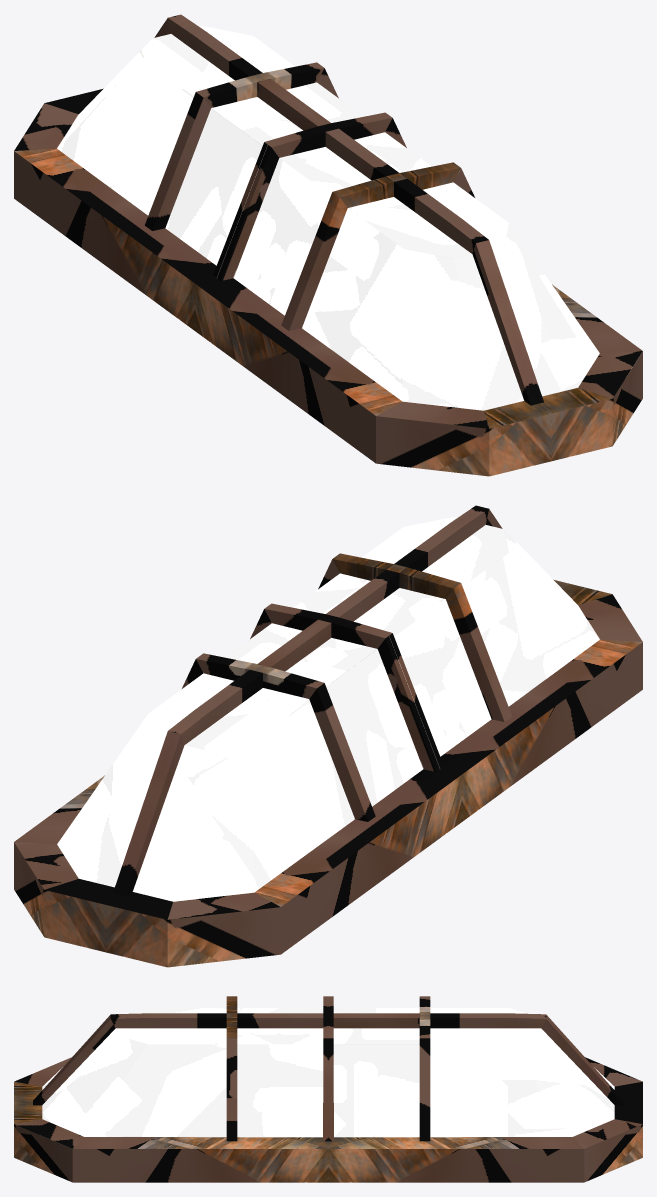
File: industrial_light.fbx
The picture shows the model from 3 angles, top to bottom: view 1: azimuth 30°, elevation 25°; view 2: azimuth 150°, elevation 25°; view 3: azimuth 270°, elevation 25°; orthographic projection. The views are drawn at different scales.
Visible parts, largest first — view 1: Combined.001; view 2: Combined.001; view 3: Combined.001.
Boxes of the visible parts, x1=… form: Combined.001: x1=14, y1=14, x2=642, y2=476; Combined.001: x1=14, y1=505, x2=642, y2=967; Combined.001: x1=14, y1=996, x2=642, y2=1182.
Bounding box in the file's own units: 39.41 × 24.13 × 114.
